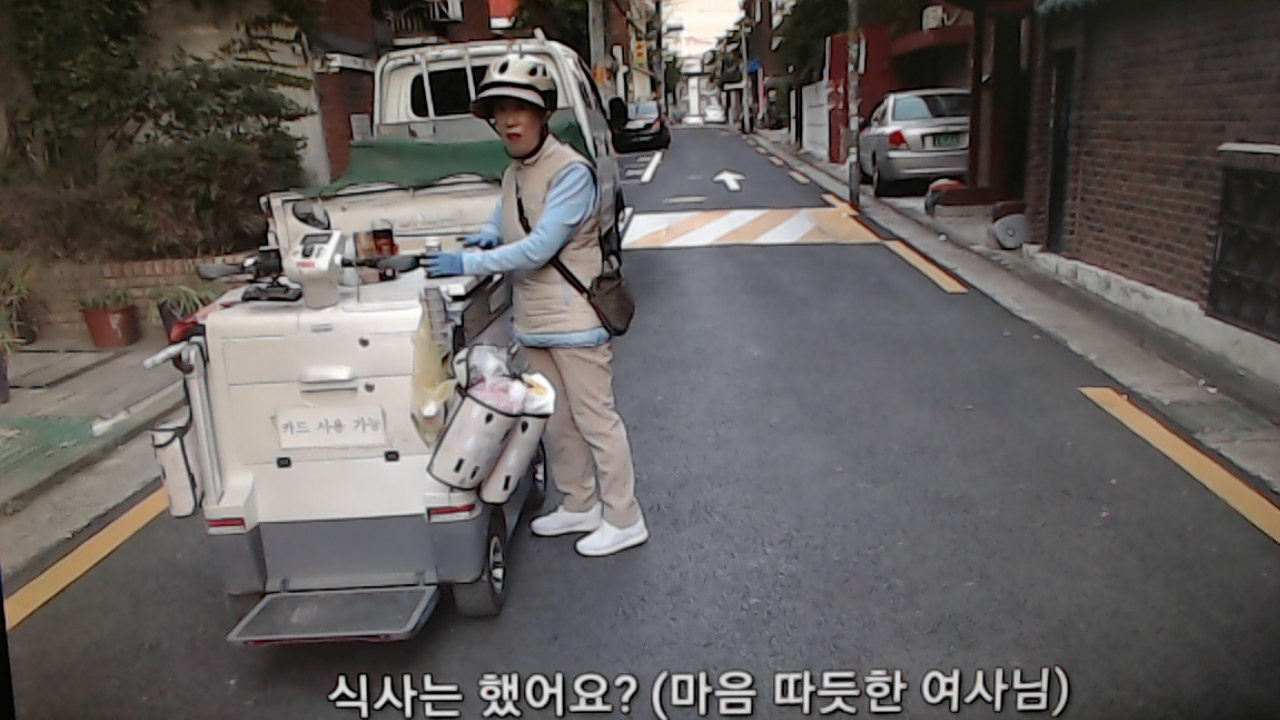Yakurut: (416, 53, 665, 568)
